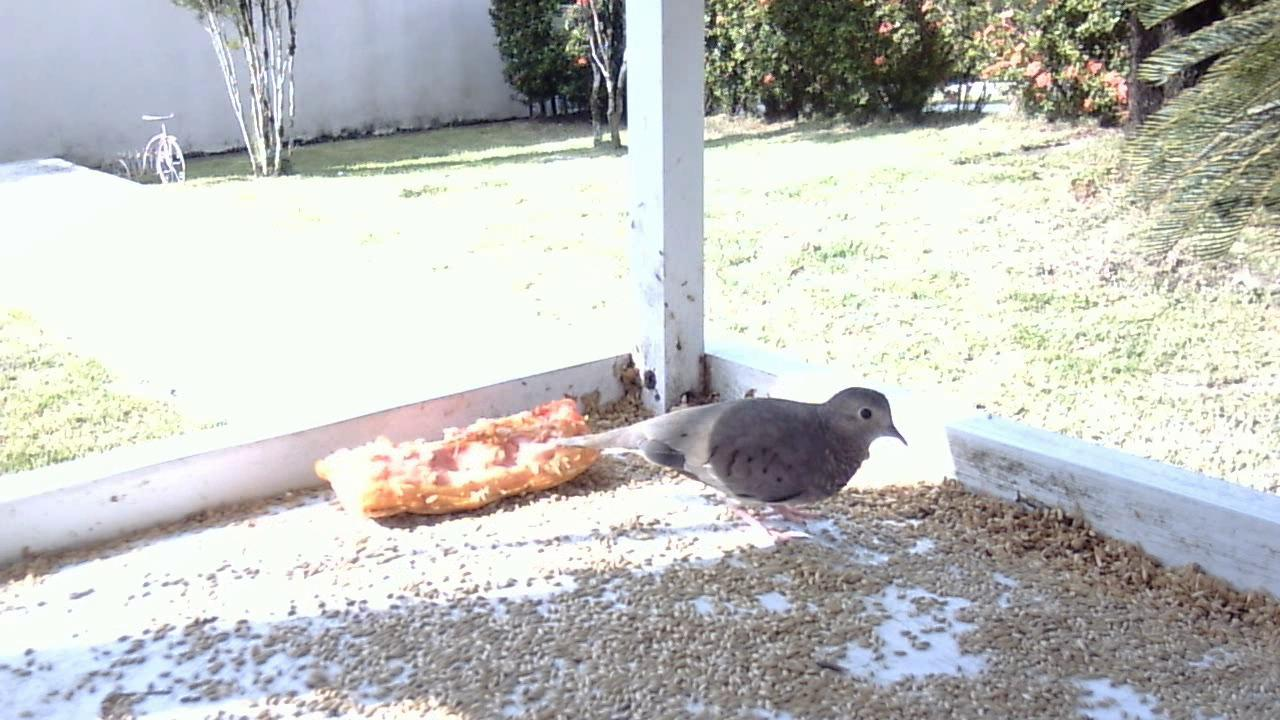rolinha: (556, 362, 911, 557)
